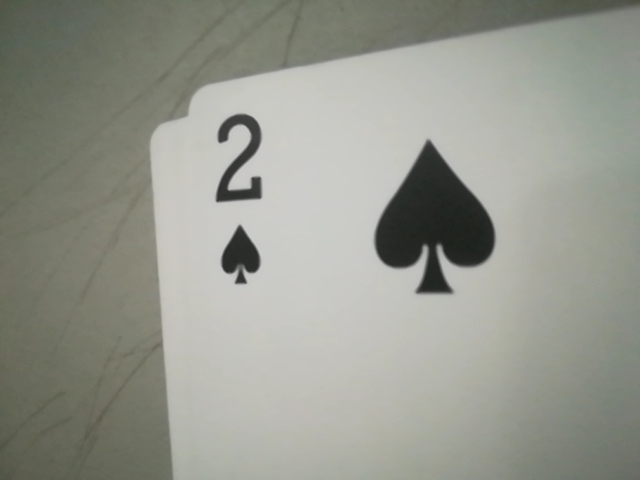ht 2: (194, 96, 288, 230)
